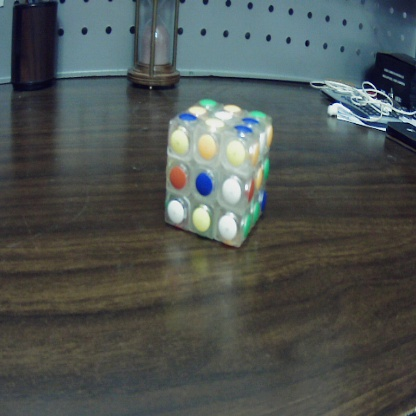Rubix Cube: (168, 100, 270, 252)
